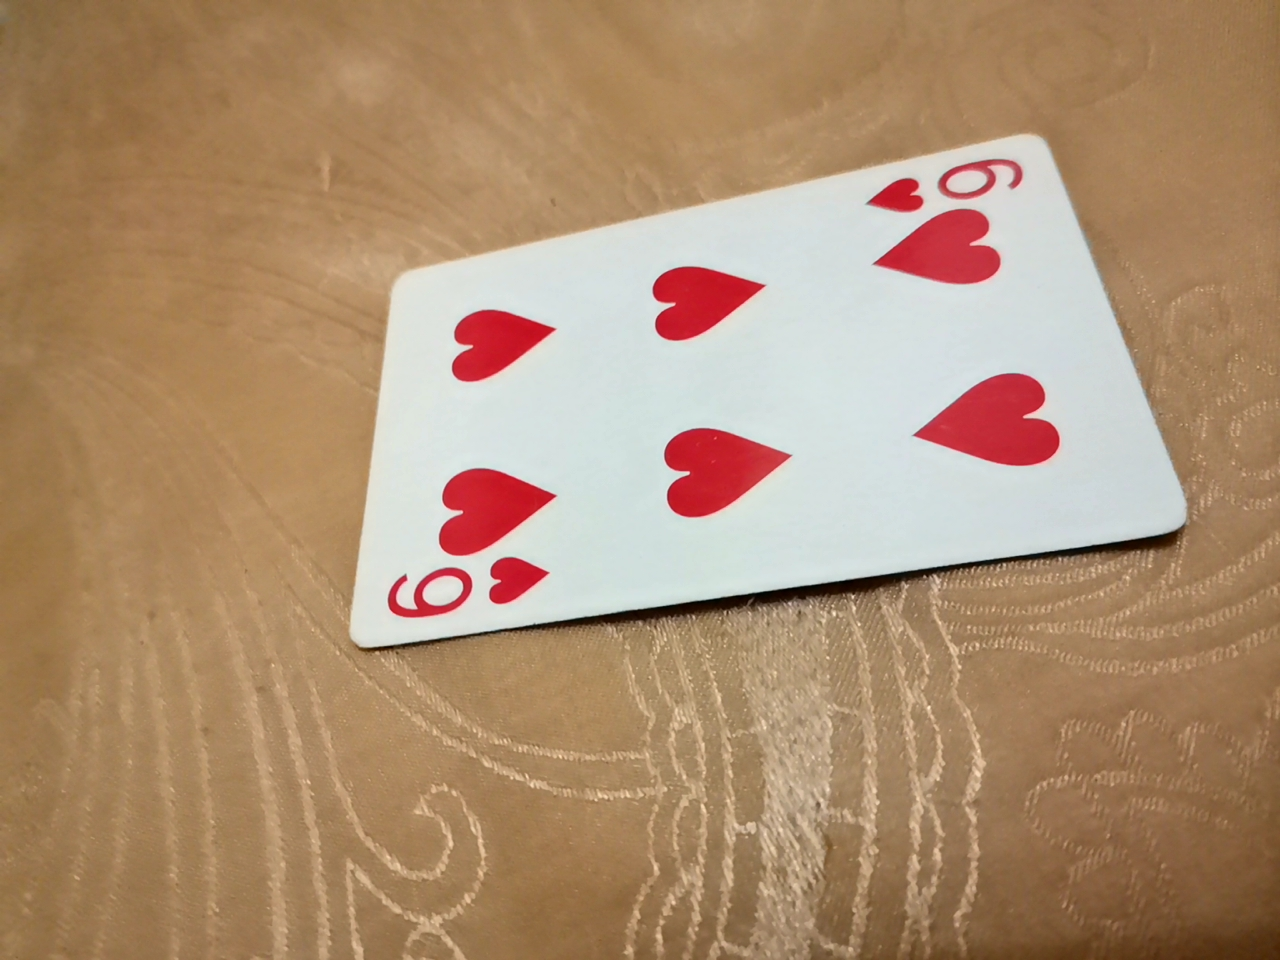hx 6: (337, 130, 1176, 653)
